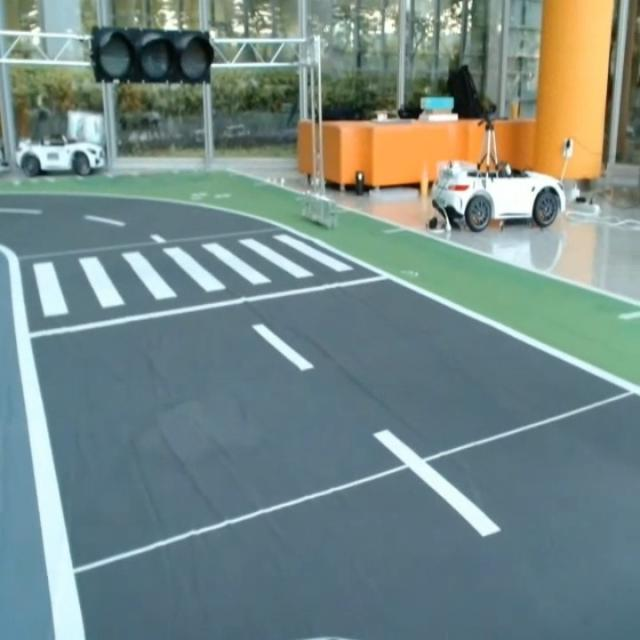traffic-light: (86, 23, 217, 88)
